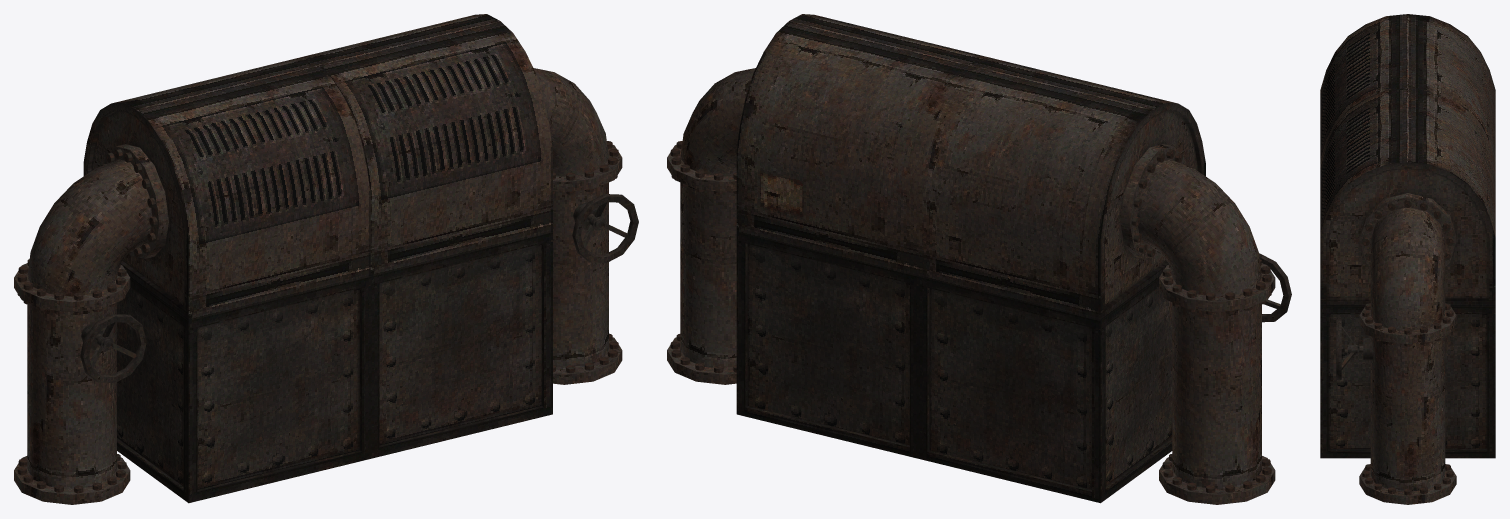
Rendered from machinery_mx_1.glb.
The picture shows the model from 3 angles, left to right: view 1: azimuth 30°, elevation 25°; view 2: azimuth 150°, elevation 25°; view 3: azimuth 270°, elevation 25°; orthographic projection. The views are drawn at different scales.
Visible parts, largest first — view 1: machinery_mx_1; view 2: machinery_mx_1; view 3: machinery_mx_1.
Boxes of the visible parts, left/top/right/bottom form: machinery_mx_1: left=14, top=14, right=638, bottom=504; machinery_mx_1: left=667, top=14, right=1291, bottom=504; machinery_mx_1: left=1320, top=14, right=1495, bottom=504.
Size of the model in its own units: 3.06 by 1.75 by 0.94.
Materials: 1 (1 with a texture image).
